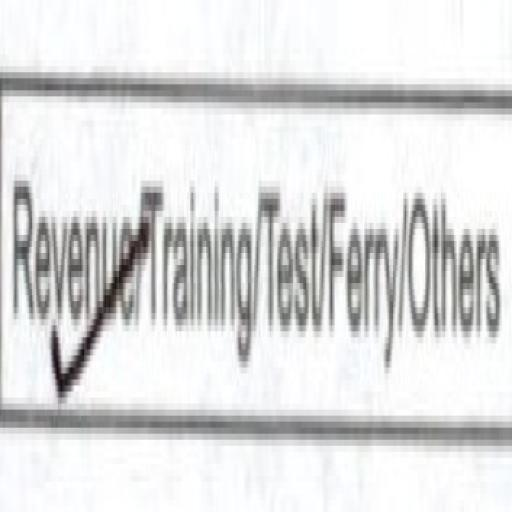check: (0, 0, 139, 494)
